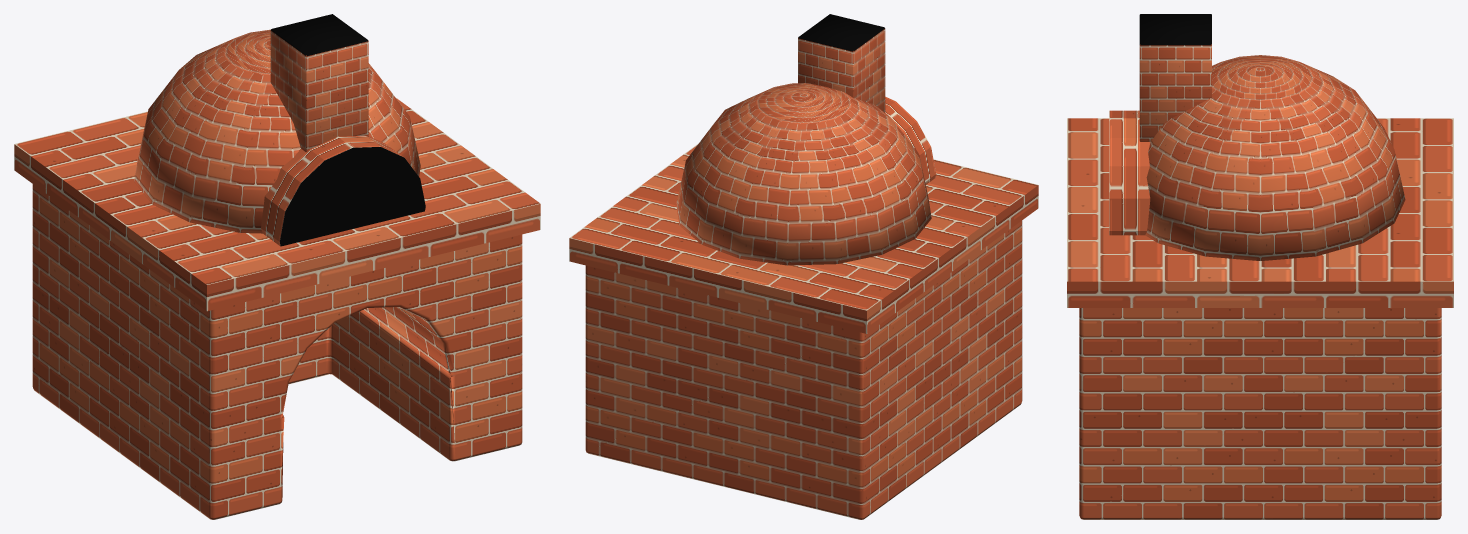
The model's file is Furnace.fbx.
3 views of the same model, side by side, from view 1: azimuth 30°, elevation 25°; view 2: azimuth 150°, elevation 25°; view 3: azimuth 270°, elevation 25° (orthographic). The views are drawn at different scales.
Parts seen in each view (by area): view 1: kemence; view 2: kemence; view 3: kemence.
Boxes of the visible parts, x1=… form: kemence: x1=14, y1=14, x2=540, y2=519; kemence: x1=569, y1=14, x2=1038, y2=519; kemence: x1=1067, y1=14, x2=1453, y2=519.
Size of the model in its own units: 1.6 by 1.9 by 1.6.
7 materials, 5 textured.
